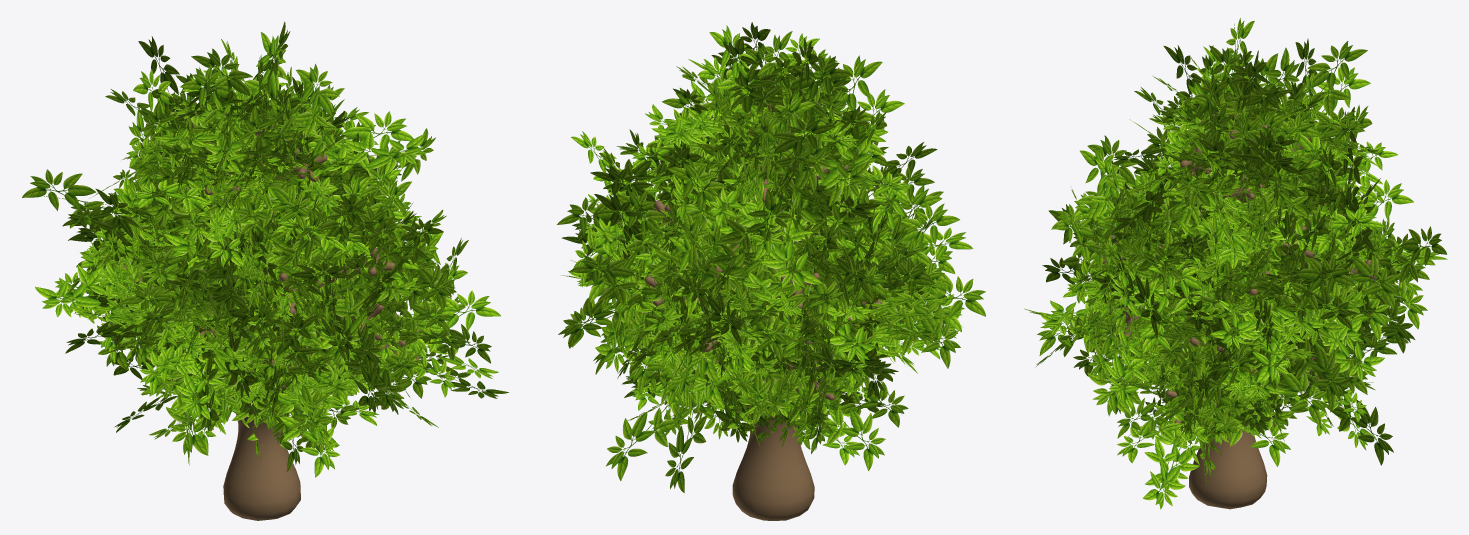
File: Arbol.fbx
The picture shows the model from 3 angles, left to right: view 1: azimuth 30°, elevation 25°; view 2: azimuth 150°, elevation 25°; view 3: azimuth 270°, elevation 25°; orthographic projection. The views are drawn at different scales.
Visible parts, largest first — view 1: Plane, Plane|580b585b2edbce24c47b26cf|Dupli|2112, Plane|580b585b2edbce24c47b26cf|Dupli|1868, Plane|580b585b2edbce24c47b26cf|Dupli|2113, Plane|580b585b2edbce24c47b26cf|Dupli|2110, Plane|580b585b2edbce24c47b26cf|Dupli|1912, Plane|580b585b2edbce24c47b26cf|Dupli|179, Plane|580b585b2edbce24c47b26cf|Dupli|215, Plane|580b585b2edbce24c47b26cf|Dupli|1954, Plane|580b585b2edbce24c47b26cf|Dupli|223, Plane|580b585b2edbce24c47b26cf|Dupli|1983, Plane|580b585b2edbce24c47b26cf|Dupli|2126 (+55 smaller); view 2: Plane, Plane|580b585b2edbce24c47b26cf|Dupli|13, Plane|580b585b2edbce24c47b26cf|Dupli|905, Plane|580b585b2edbce24c47b26cf|Dupli|902, Plane|580b585b2edbce24c47b26cf|Dupli|2206, Plane|580b585b2edbce24c47b26cf|Dupli|1167, Plane|580b585b2edbce24c47b26cf|Dupli|1811, Plane|580b585b2edbce24c47b26cf|Dupli|1392, Plane|580b585b2edbce24c47b26cf|Dupli|455, Plane|580b585b2edbce24c47b26cf|Dupli|1829, Plane|580b585b2edbce24c47b26cf|Dupli|1249, Plane|580b585b2edbce24c47b26cf|Dupli|1833 (+78 smaller); view 3: Plane, Plane|580b585b2edbce24c47b26cf|Dupli|2003, Plane|580b585b2edbce24c47b26cf|Dupli|1757, Plane|580b585b2edbce24c47b26cf|Dupli|180, Plane|580b585b2edbce24c47b26cf|Dupli|902, Plane|580b585b2edbce24c47b26cf|Dupli|1937, Plane|580b585b2edbce24c47b26cf|Dupli|2032, Plane|580b585b2edbce24c47b26cf|Dupli|2020, Plane|580b585b2edbce24c47b26cf|Dupli|2061, Plane|580b585b2edbce24c47b26cf|Dupli|1447, Plane|580b585b2edbce24c47b26cf|Dupli|13, Plane|580b585b2edbce24c47b26cf|Dupli|1994 (+80 smaller).
Part boxes in pixels (x1=…): Plane: x1=124, y1=114, x2=422, y2=520; Plane|580b585b2edbce24c47b26cf|Dupli|2112: x1=324, y1=131, x2=426, y2=175; Plane|580b585b2edbce24c47b26cf|Dupli|1868: x1=22, y1=169, x2=131, y2=231; Plane|580b585b2edbce24c47b26cf|Dupli|2113: x1=294, y1=64, x2=339, y2=160; Plane|580b585b2edbce24c47b26cf|Dupli|2110: x1=309, y1=111, x2=413, y2=177; Plane|580b585b2edbce24c47b26cf|Dupli|1912: x1=35, y1=265, x2=132, y2=318; Plane|580b585b2edbce24c47b26cf|Dupli|179: x1=399, y1=290, x2=500, y2=357; Plane|580b585b2edbce24c47b26cf|Dupli|215: x1=273, y1=386, x2=339, y2=477; Plane|580b585b2edbce24c47b26cf|Dupli|1954: x1=236, y1=190, x2=293, y2=280; Plane|580b585b2edbce24c47b26cf|Dupli|223: x1=269, y1=315, x2=319, y2=383; Plane|580b585b2edbce24c47b26cf|Dupli|1983: x1=320, y1=266, x2=376, y2=369; Plane|580b585b2edbce24c47b26cf|Dupli|2126: x1=233, y1=183, x2=313, y2=230; Plane: x1=644, y1=105, x2=881, y2=520; Plane|580b585b2edbce24c47b26cf|Dupli|13: x1=606, y1=383, x2=690, y2=480; Plane|580b585b2edbce24c47b26cf|Dupli|905: x1=711, y1=189, x2=793, y2=268; Plane|580b585b2edbce24c47b26cf|Dupli|902: x1=569, y1=252, x2=661, y2=308; Plane|580b585b2edbce24c47b26cf|Dupli|2206: x1=753, y1=194, x2=822, y2=292; Plane|580b585b2edbce24c47b26cf|Dupli|1167: x1=808, y1=399, x2=885, y2=470; Plane|580b585b2edbce24c47b26cf|Dupli|1811: x1=667, y1=158, x2=738, y2=255; Plane|580b585b2edbce24c47b26cf|Dupli|1392: x1=874, y1=296, x2=960, y2=368; Plane|580b585b2edbce24c47b26cf|Dupli|455: x1=758, y1=116, x2=836, y2=182; Plane|580b585b2edbce24c47b26cf|Dupli|1829: x1=645, y1=245, x2=749, y2=297; Plane|580b585b2edbce24c47b26cf|Dupli|1249: x1=770, y1=53, x2=852, y2=123; Plane|580b585b2edbce24c47b26cf|Dupli|1833: x1=616, y1=185, x2=666, y2=271; Plane: x1=1096, y1=114, x2=1377, y2=509; Plane|580b585b2edbce24c47b26cf|Dupli|2003: x1=1272, y1=255, x2=1355, y2=314; Plane|580b585b2edbce24c47b26cf|Dupli|1757: x1=1302, y1=41, x2=1367, y2=120; Plane|580b585b2edbce24c47b26cf|Dupli|180: x1=1142, y1=420, x2=1185, y2=509; Plane|580b585b2edbce24c47b26cf|Dupli|902: x1=1378, y1=226, x2=1447, y2=286; Plane|580b585b2edbce24c47b26cf|Dupli|1937: x1=1104, y1=329, x2=1149, y2=414; Plane|580b585b2edbce24c47b26cf|Dupli|2032: x1=1315, y1=243, x2=1403, y2=309; Plane|580b585b2edbce24c47b26cf|Dupli|2020: x1=1257, y1=281, x2=1357, y2=329; Plane|580b585b2edbce24c47b26cf|Dupli|2061: x1=1289, y1=324, x2=1345, y2=412; Plane|580b585b2edbce24c47b26cf|Dupli|1447: x1=1239, y1=371, x2=1329, y2=427; Plane|580b585b2edbce24c47b26cf|Dupli|13: x1=1326, y1=395, x2=1393, y2=465; Plane|580b585b2edbce24c47b26cf|Dupli|1994: x1=1078, y1=146, x2=1126, y2=245.
Size of the model in its own units: 778 by 889 by 740.
Materials: 2 (1 with a texture image).
